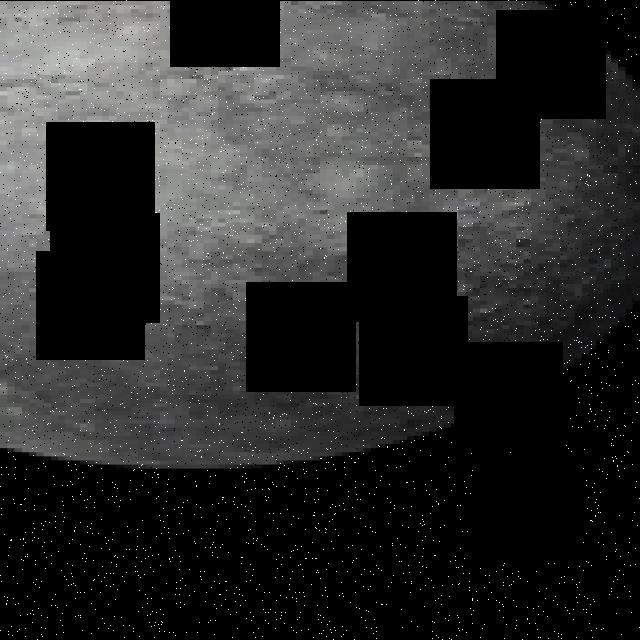Mercury: (0, 0, 640, 468)
